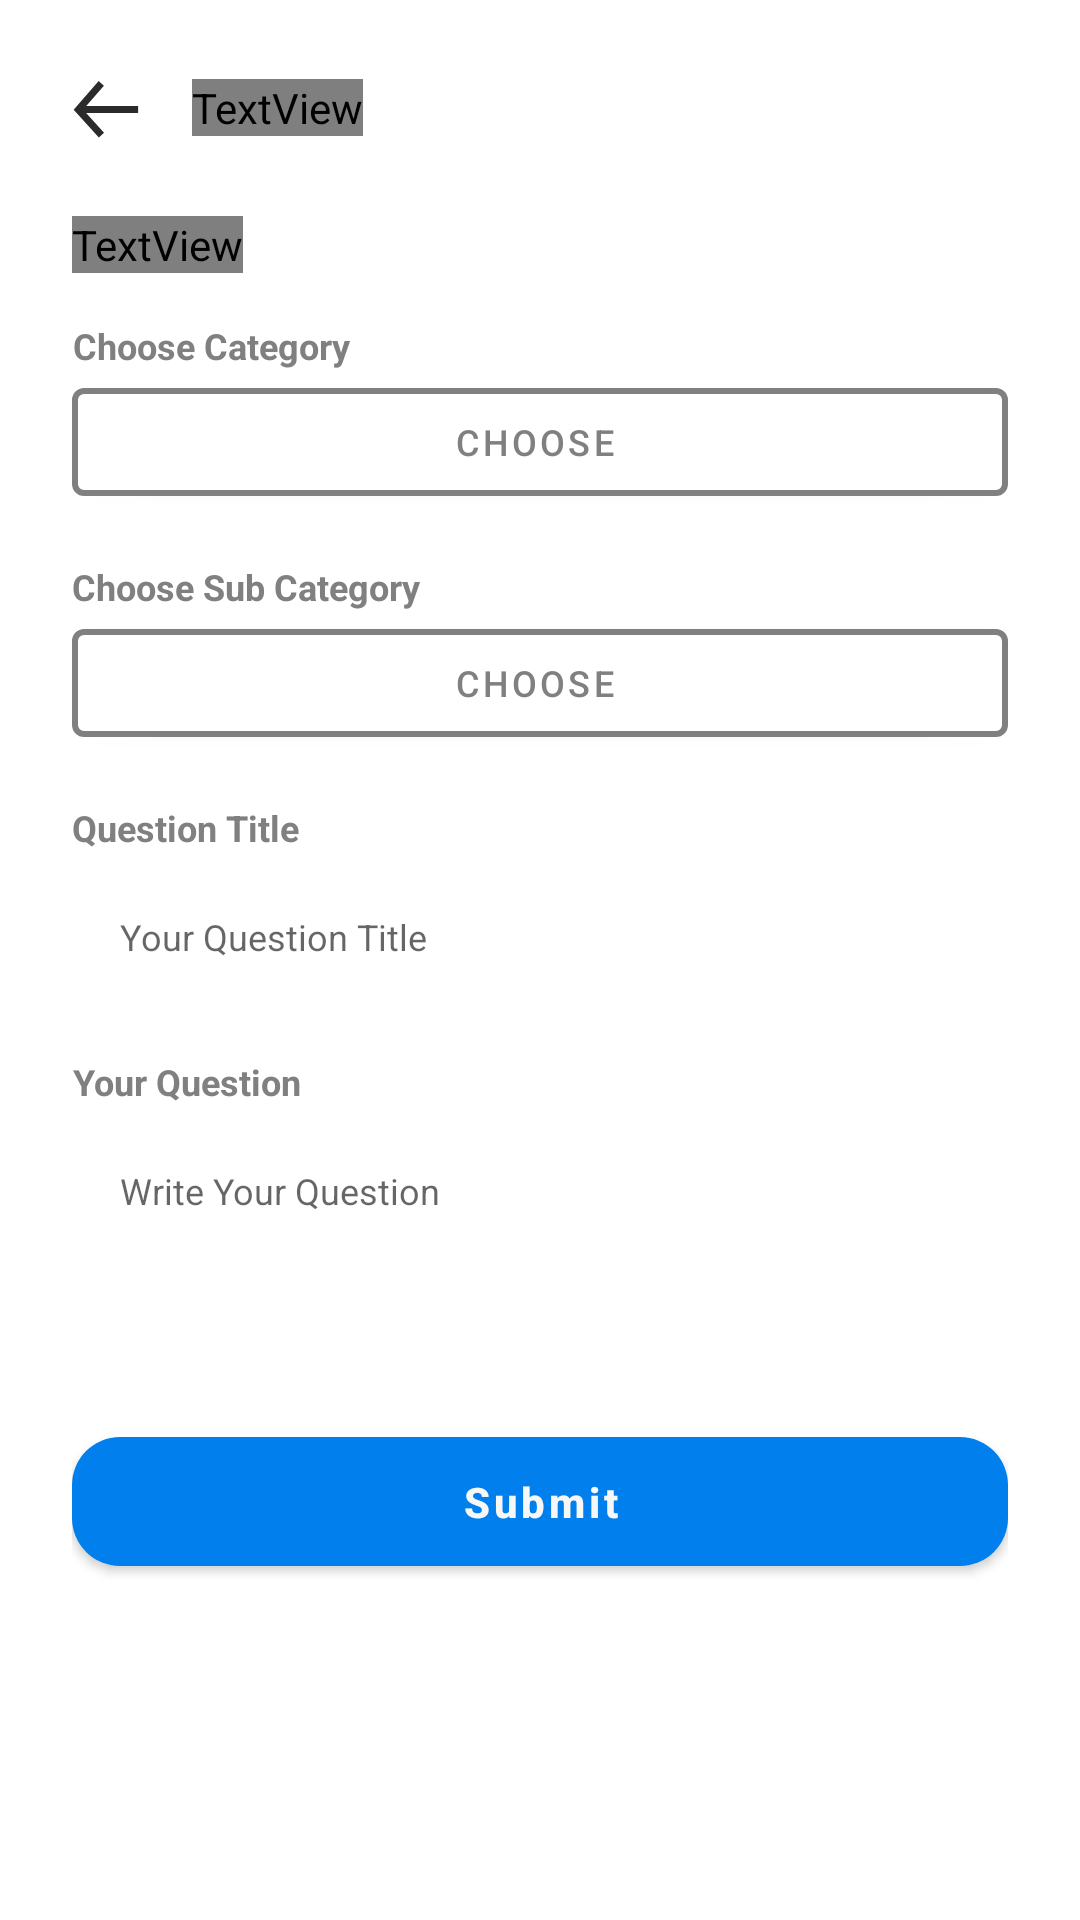

Icon bounding boxes for this 1080px×1920px phone screenshot, format [x1,y1,x2,y2]:
left arrow: [73,81,139,138]
